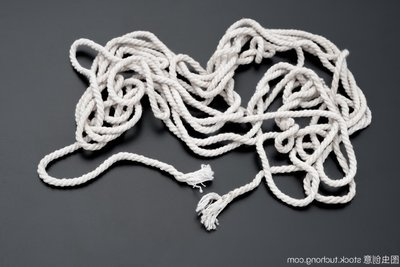9/可回收垃圾/绳子: (37, 17, 373, 231)
